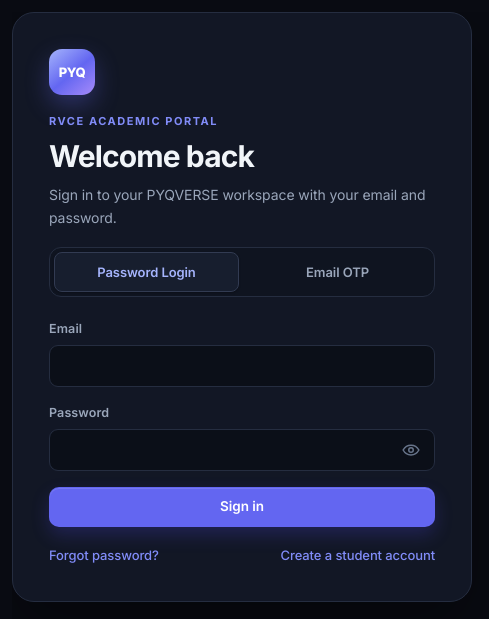
Scenario: Login flow › prevents duplicate submissions while the login request is pending
Later steps or results of the test are not shown.
Type "student@rvce.edu.in" into the field labelled "Email" at (242, 366), box [49,345,435,387]
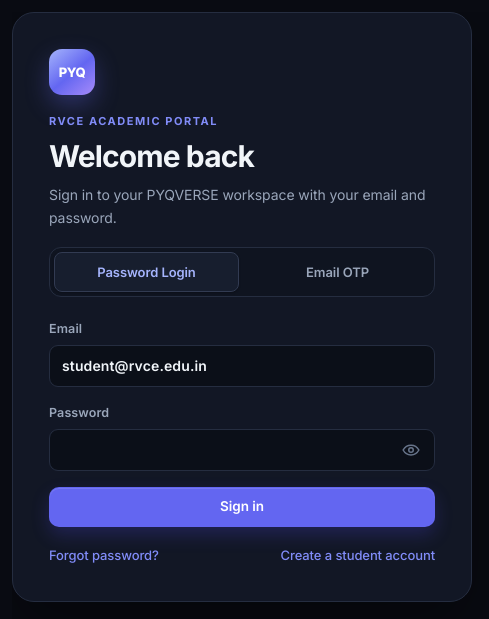
Type "StrongPass1" into the password field labelled "Password" at (242, 450), box [49,429,435,471]
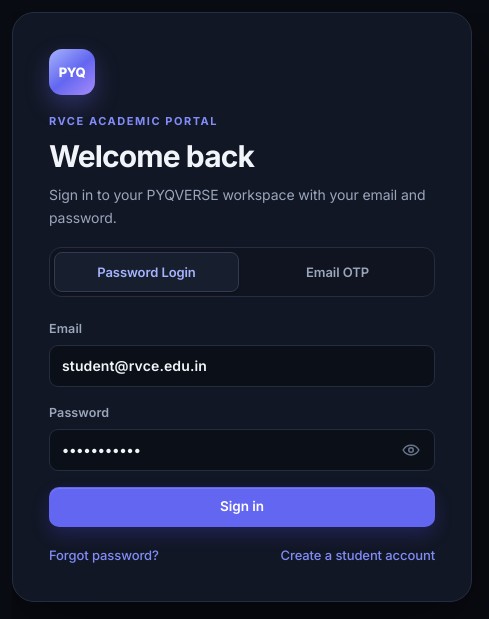
Submit the form "Sign in", box [49,319,435,527]
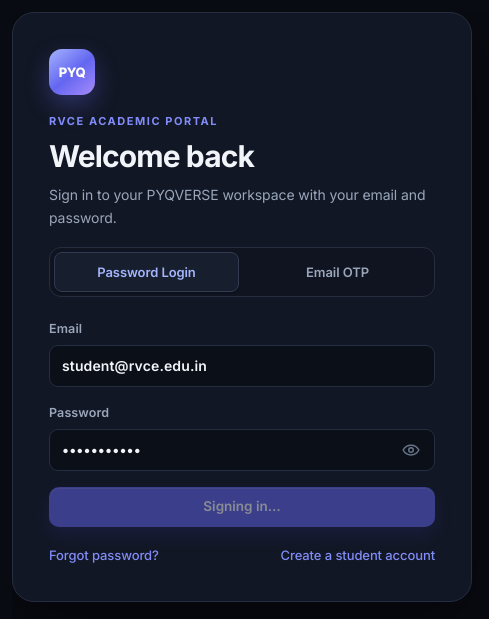
Submit the form named "Sign in", box [49,319,435,527]
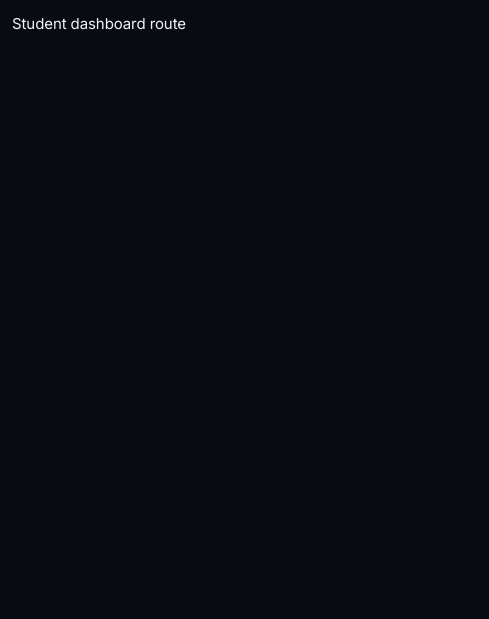
Check: the text "Student dashboard route" is shown, box [12,14,186,33]
